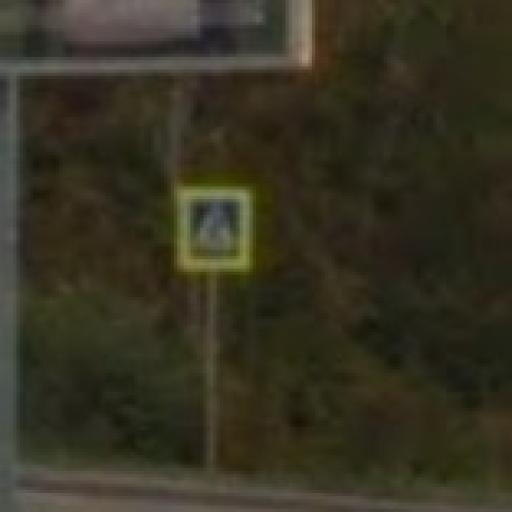traffic_sign: (172, 181, 260, 282)
